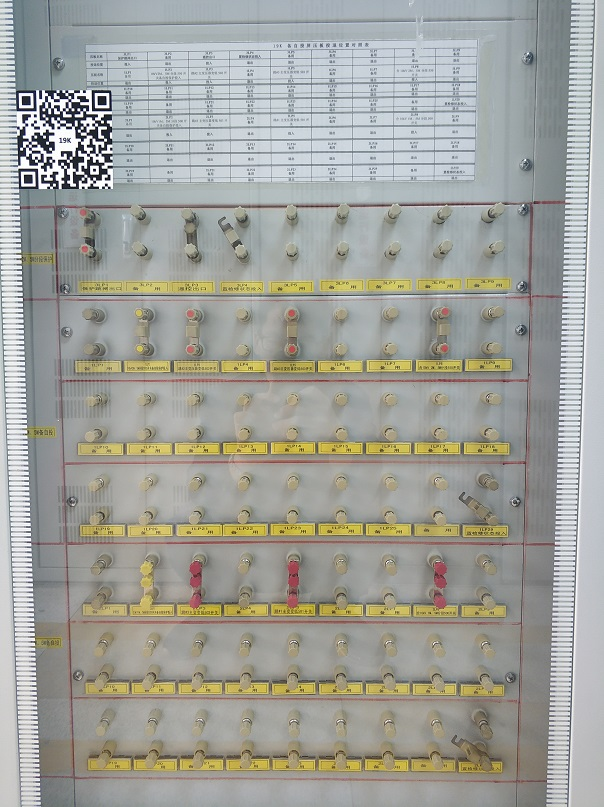ybempty: (82, 552, 121, 618), (323, 388, 359, 444), (477, 205, 510, 263), (75, 390, 108, 444), (324, 629, 352, 691), (424, 389, 452, 450), (93, 710, 120, 771)
ybopen: (217, 206, 263, 270), (447, 708, 500, 763), (454, 468, 504, 524)
